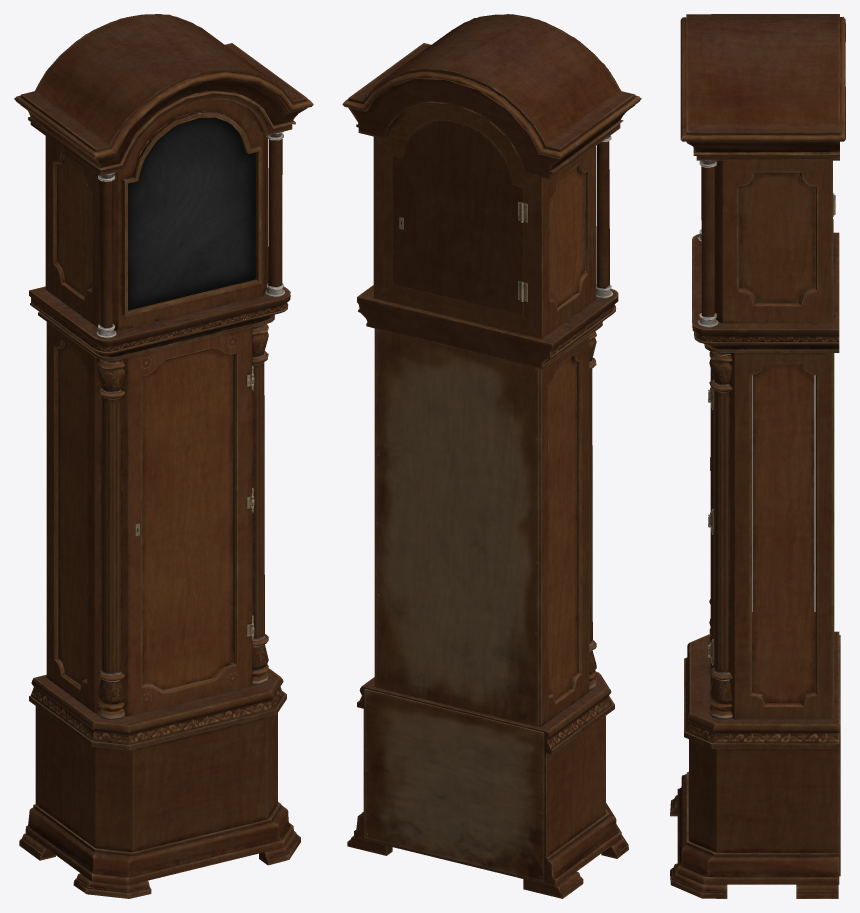
Rendered from vintage_grandfather_clock_01.glb.
3 renders of one model, left to right at view 1: azimuth 30°, elevation 25°; view 2: azimuth 150°, elevation 25°; view 3: azimuth 270°, elevation 25°, orthographic. The views are drawn at different scales.
Parts seen in each view (by area): view 1: vintage_grandfather_clock_01; view 2: vintage_grandfather_clock_01; view 3: vintage_grandfather_clock_01.
Boxes of the visible parts, <box> form: vintage_grandfather_clock_01: <box>14,14,313,898</box>; vintage_grandfather_clock_01: <box>342,14,641,898</box>; vintage_grandfather_clock_01: <box>670,14,845,898</box>.
Size of the model in its own units: 0.6256 by 2.19 by 0.4268.
2 materials, 2 textured.
